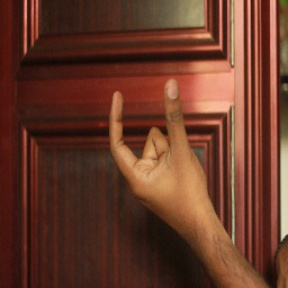U: (104, 77, 201, 197)
